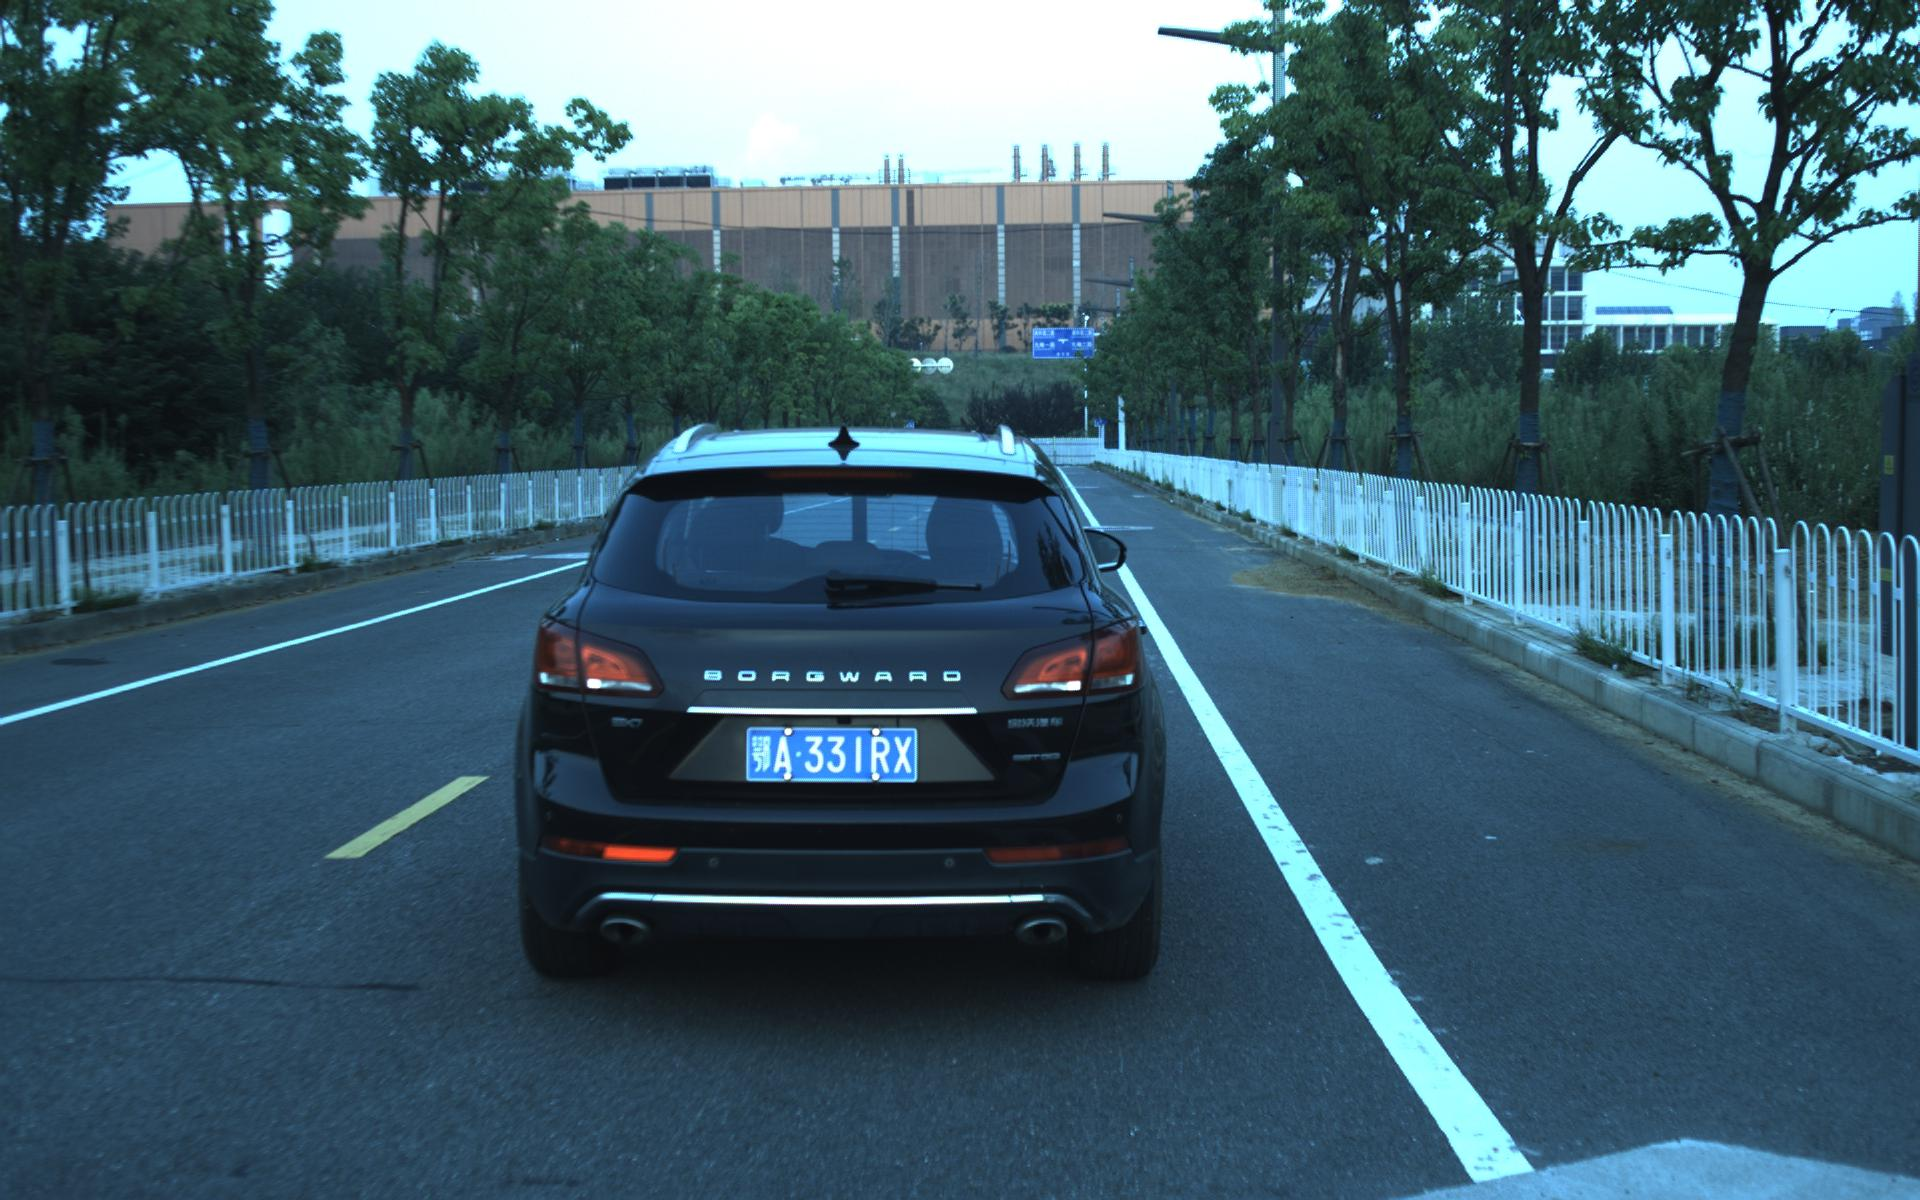Car: (520, 422, 1185, 982)
